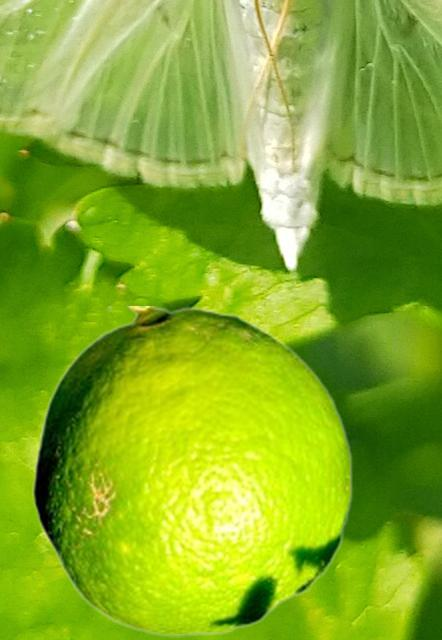dalandan: (32, 306, 352, 636)
